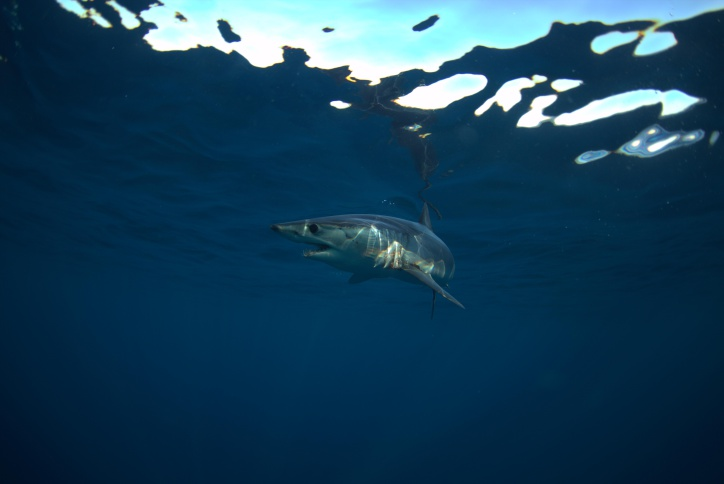Mako: (246, 197, 476, 326)
